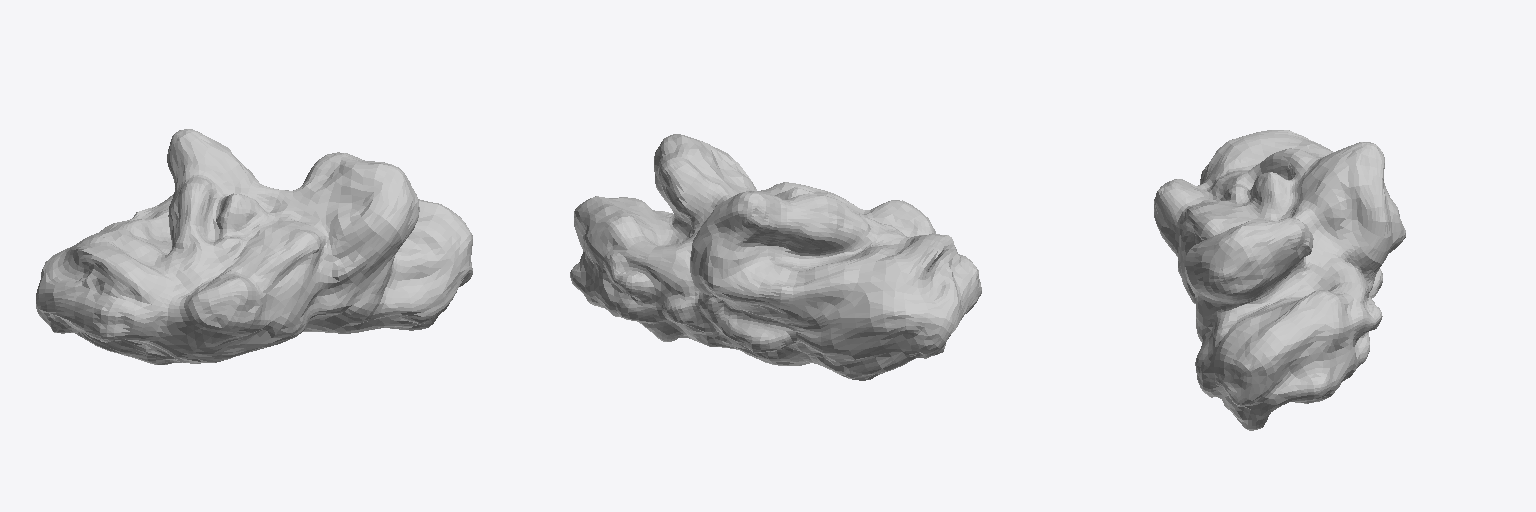
File: rock6.obj
The picture shows the model from 3 angles: view 1: azimuth 30°, elevation 25°; view 2: azimuth 150°, elevation 25°; view 3: azimuth 270°, elevation 25°; orthographic projection.
Parts seen in each view (by area): view 1: Rock__Pack_06:Rock_06 group5; view 2: Rock__Pack_06:Rock_06 group5; view 3: Rock__Pack_06:Rock_06 group5.
Boxes of the visible parts, x1=… form: Rock__Pack_06:Rock_06 group5: x1=36, y1=129, x2=472, y2=364; Rock__Pack_06:Rock_06 group5: x1=570, y1=134, x2=981, y2=380; Rock__Pack_06:Rock_06 group5: x1=1154, y1=130, x2=1405, y2=430.
Size of the model in its own units: 0.6939 by 0.3286 by 0.3775.